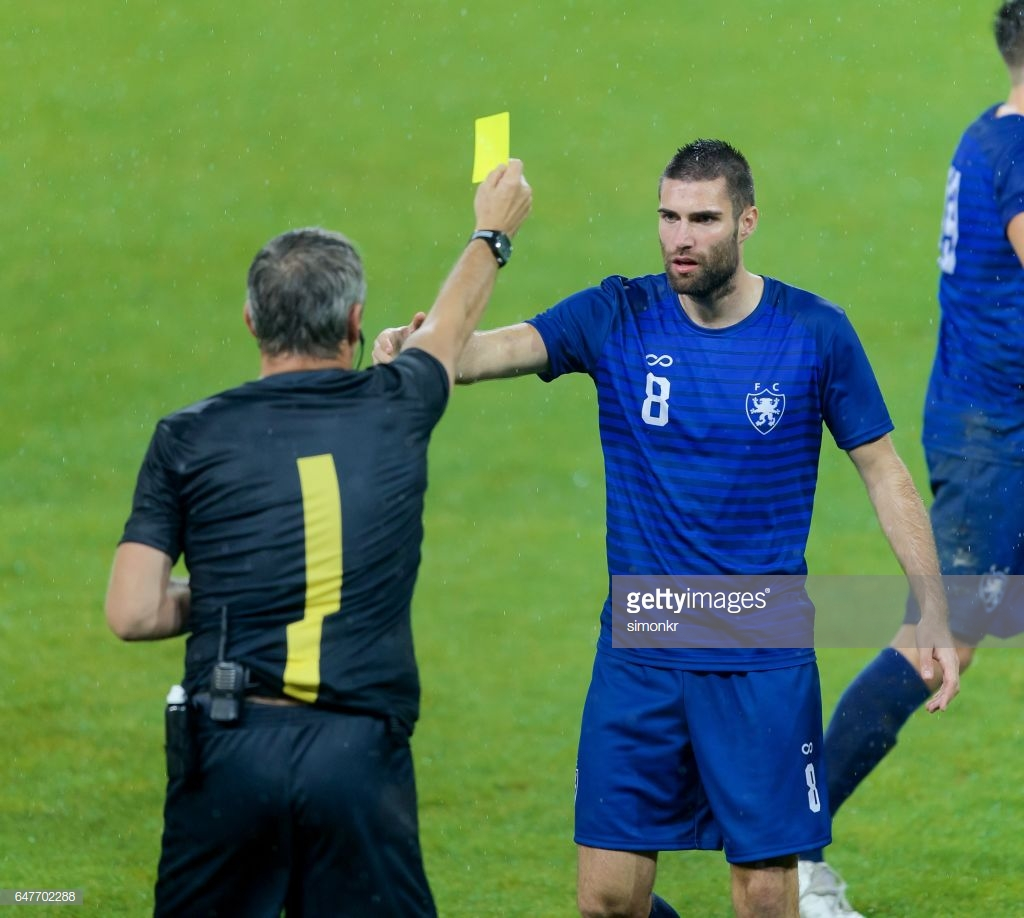yellow_card: (439, 104, 553, 253)
